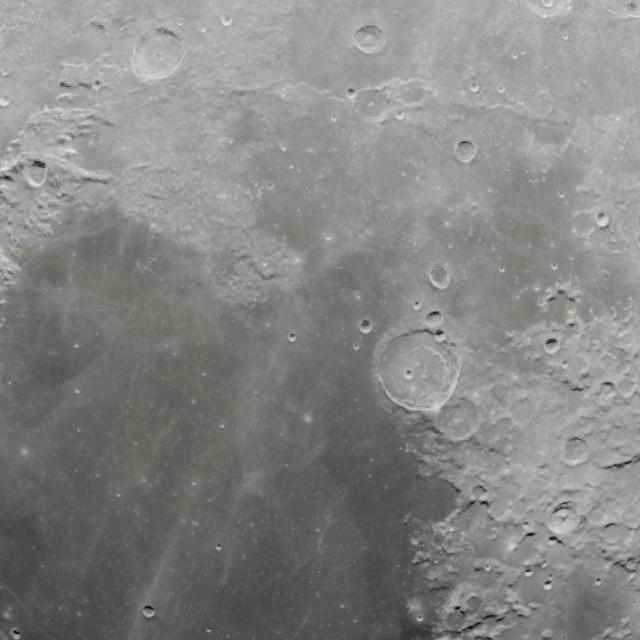crater: (374, 330, 464, 412), (133, 24, 187, 89), (437, 397, 478, 445), (352, 23, 388, 54), (452, 137, 481, 165), (25, 159, 52, 188), (592, 208, 614, 230), (542, 335, 560, 355), (424, 311, 445, 327), (358, 318, 375, 335), (141, 606, 156, 620)
